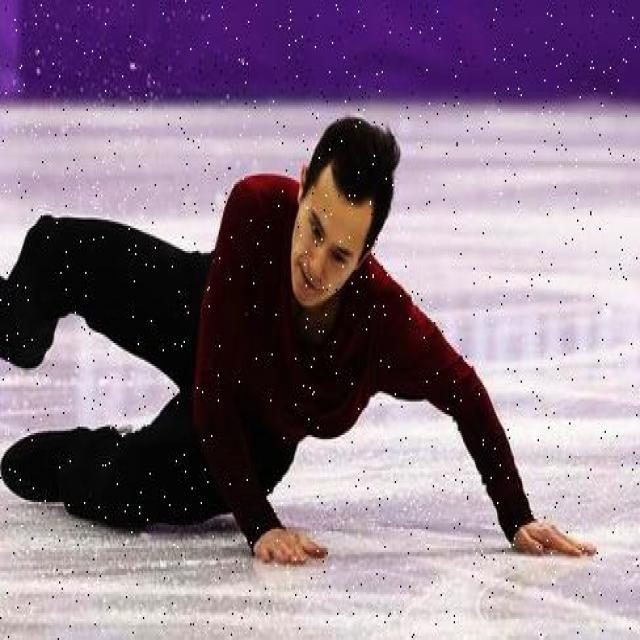fall: (12, 118, 549, 566)
